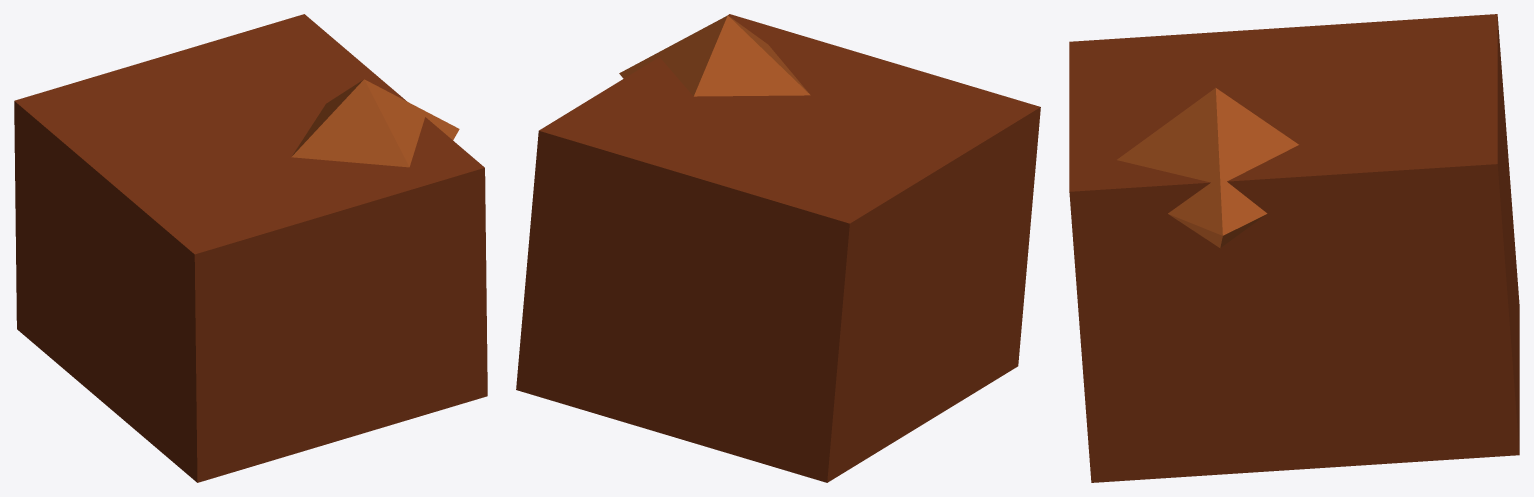
File: pile-soil-1.obj
The picture shows the model from 3 angles, left to right: view 1: azimuth 30°, elevation 25°; view 2: azimuth 150°, elevation 25°; view 3: azimuth 270°, elevation 25°; orthographic projection. The views are drawn at different scales.
Parts seen in each view (by area): view 1: pile-soil-1; view 2: pile-soil-1; view 3: pile-soil-1.
Part boxes in pixels (left/top/right/bottom): pile-soil-1: left=14, top=14, right=487, bottom=482; pile-soil-1: left=516, top=14, right=1040, bottom=482; pile-soil-1: left=1069, top=14, right=1519, bottom=482.
Size of the model in its own units: 0.3183 by 0.2874 by 0.3146.
1 material, 1 textured.
